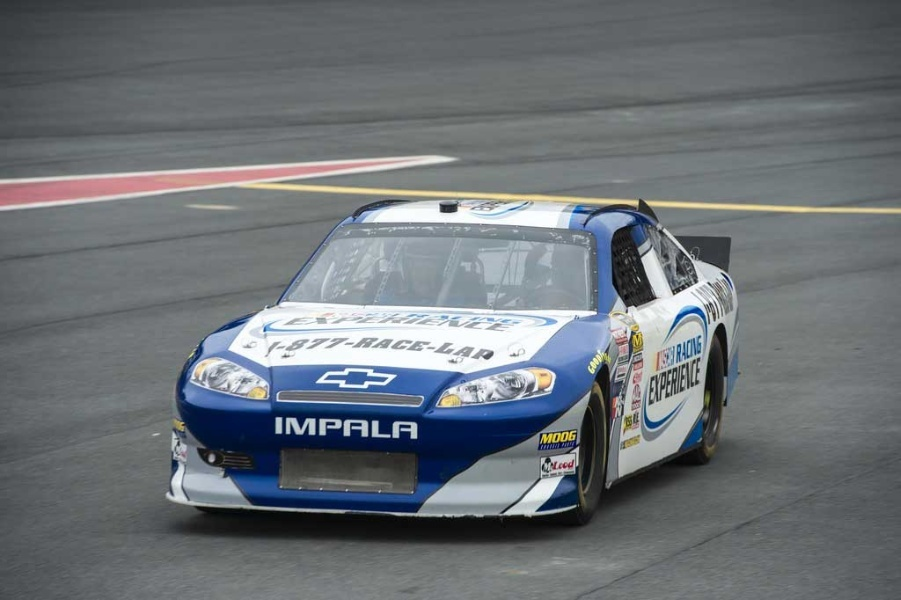text: (657, 356, 672, 407), (673, 356, 688, 407), (689, 275, 704, 326), (705, 275, 720, 326), (721, 275, 736, 326), (689, 356, 703, 407), (689, 333, 704, 365), (674, 333, 688, 365), (273, 335, 288, 363), (289, 335, 304, 363), (305, 335, 320, 363), (321, 335, 336, 363), (337, 335, 352, 363), (353, 335, 368, 363), (369, 335, 384, 363), (385, 335, 400, 363), (401, 335, 416, 363), (417, 335, 432, 363), (433, 335, 448, 363), (449, 335, 464, 363), (465, 335, 480, 363), (481, 335, 496, 363), (657, 347, 672, 372), (289, 416, 304, 440), (305, 416, 320, 440), (321, 416, 336, 440), (337, 416, 352, 440), (353, 416, 368, 440), (369, 416, 384, 440), (385, 416, 400, 440), (401, 416, 416, 440), (649, 356, 656, 407), (274, 416, 288, 440), (481, 198, 496, 216), (497, 198, 512, 216), (593, 352, 604, 376), (305, 316, 320, 333), (321, 316, 336, 333), (337, 316, 352, 333), (353, 316, 368, 333), (369, 316, 384, 333), (385, 316, 400, 333), (401, 316, 416, 333), (417, 316, 432, 333), (433, 316, 448, 333), (449, 316, 464, 333), (465, 316, 480, 333), (481, 316, 496, 333), (497, 316, 512, 333), (545, 430, 560, 447), (561, 430, 576, 447), (625, 412, 641, 427), (625, 435, 640, 450), (545, 459, 560, 473), (177, 418, 187, 438), (469, 198, 480, 216), (561, 459, 575, 473), (612, 329, 624, 344), (585, 352, 592, 376), (481, 315, 496, 326), (497, 315, 512, 326), (513, 315, 524, 326), (497, 335, 501, 363), (633, 333, 640, 349), (616, 404, 624, 418), (619, 344, 624, 365), (625, 344, 630, 365), (298, 316, 304, 333), (513, 316, 519, 333), (737, 275, 739, 326), (625, 416, 633, 428), (618, 365, 624, 381), (513, 198, 518, 216), (633, 373, 640, 385), (625, 365, 630, 381), (633, 353, 640, 364), (625, 329, 630, 344), (641, 333, 645, 349), (633, 402, 640, 410), (541, 430, 544, 447), (577, 430, 580, 447), (635, 362, 640, 372), (641, 373, 645, 385), (641, 353, 645, 364), (174, 418, 176, 438), (641, 362, 645, 372), (477, 315, 480, 326), (655, 347, 656, 372), (673, 347, 674, 372), (417, 416, 418, 440), (623, 435, 624, 450), (641, 435, 642, 450), (543, 459, 544, 473)
